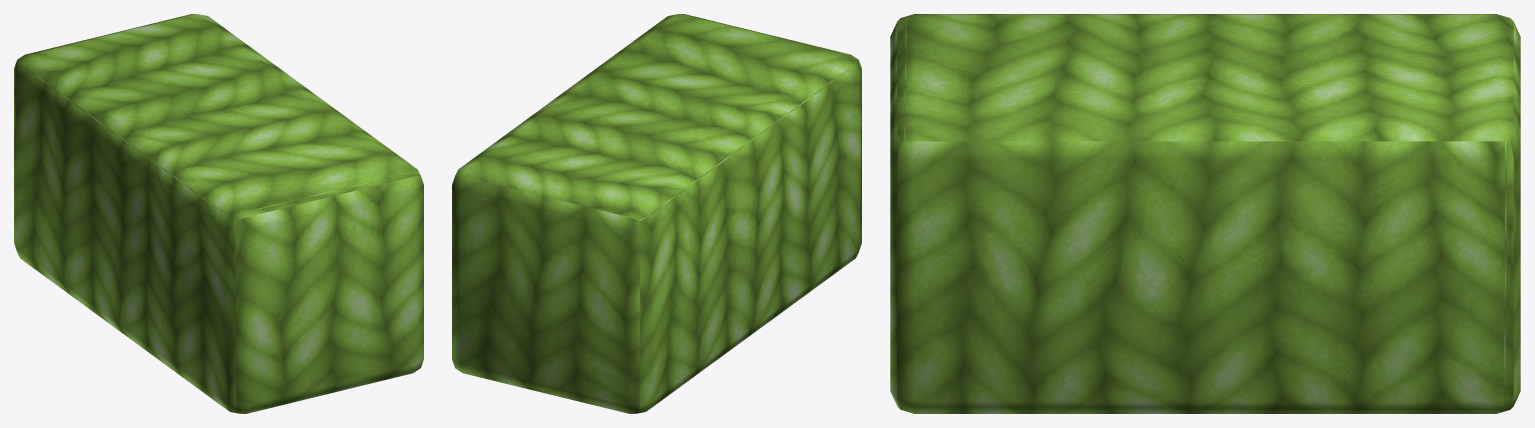
Rendered from yarnboxv3.fbx.
3 renders of one model, left to right at view 1: azimuth 30°, elevation 25°; view 2: azimuth 150°, elevation 25°; view 3: azimuth 270°, elevation 25°, orthographic. The views are drawn at different scales.
Parts seen in each view (by area): view 1: Cube; view 2: Cube; view 3: Cube.
Part boxes in pixels (left/top/right/bottom): Cube: left=14, top=14, right=423, bottom=413; Cube: left=452, top=14, right=861, bottom=413; Cube: left=890, top=14, right=1520, bottom=413.
Bounding box in the file's own units: 100 × 100 × 200.
